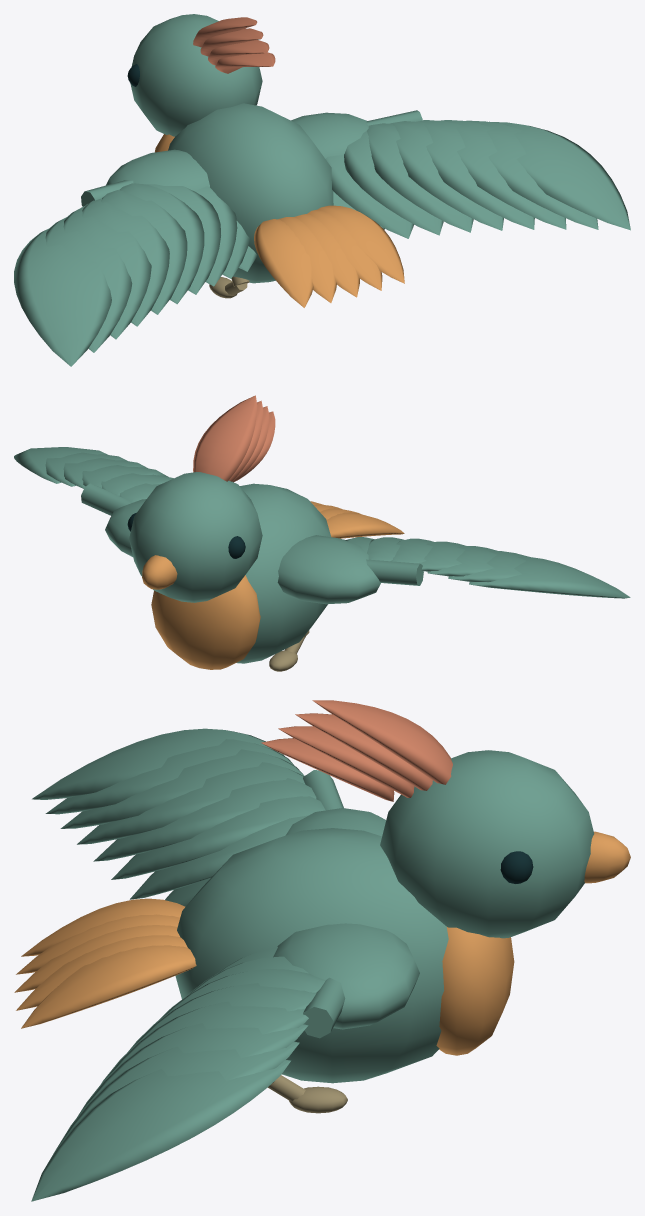
File: suncrest-bird.glb
3 views of the same model, one above another, from view 1: azimuth 30°, elevation 25°; view 2: azimuth 150°, elevation 25°; view 3: azimuth 270°, elevation 25° (orthographic). The views are drawn at different scales.
Visible parts, largest first — view 1: wing-left, wing-right, body, tail, head, crest, leg-0; view 2: wing-left, head, body, breast, wing-right, crest, tail, beak, leg-0, eyes; view 3: wing-right, body, wing-left, head, tail, crest, breast, beak, leg-1, eyes.
Part boxes in pixels (bbox=[...]): wing-left: bbox=[14, 149, 257, 366]; wing-right: bbox=[291, 110, 630, 238]; body: bbox=[168, 103, 333, 283]; tail: bbox=[254, 205, 404, 307]; head: bbox=[130, 14, 262, 136]; crest: bbox=[193, 17, 275, 73]; leg-0: bbox=[209, 276, 249, 298]; wing-left: bbox=[277, 535, 630, 604]; head: bbox=[129, 472, 262, 602]; body: bbox=[236, 483, 330, 663]; breast: bbox=[151, 575, 260, 669]; wing-right: bbox=[14, 447, 173, 556]; crest: bbox=[193, 395, 275, 482]; tail: bbox=[310, 501, 404, 538]; beak: bbox=[142, 555, 177, 589]; leg-0: bbox=[269, 630, 309, 671]; eyes: bbox=[127, 512, 245, 558]; wing-right: bbox=[31, 923, 419, 1201]; body: bbox=[175, 828, 448, 1083]; wing-left: bbox=[32, 728, 385, 906]; head: bbox=[380, 750, 594, 938]; tail: bbox=[14, 898, 196, 1028]; crest: bbox=[261, 700, 452, 801]; breast: bbox=[436, 927, 514, 1055]; beak: bbox=[584, 831, 630, 883]; leg-1: bbox=[268, 1073, 347, 1113]; eyes: bbox=[500, 851, 533, 883].
Bounding box in the file's own units: 1.46 × 0.6334 × 0.9098.
